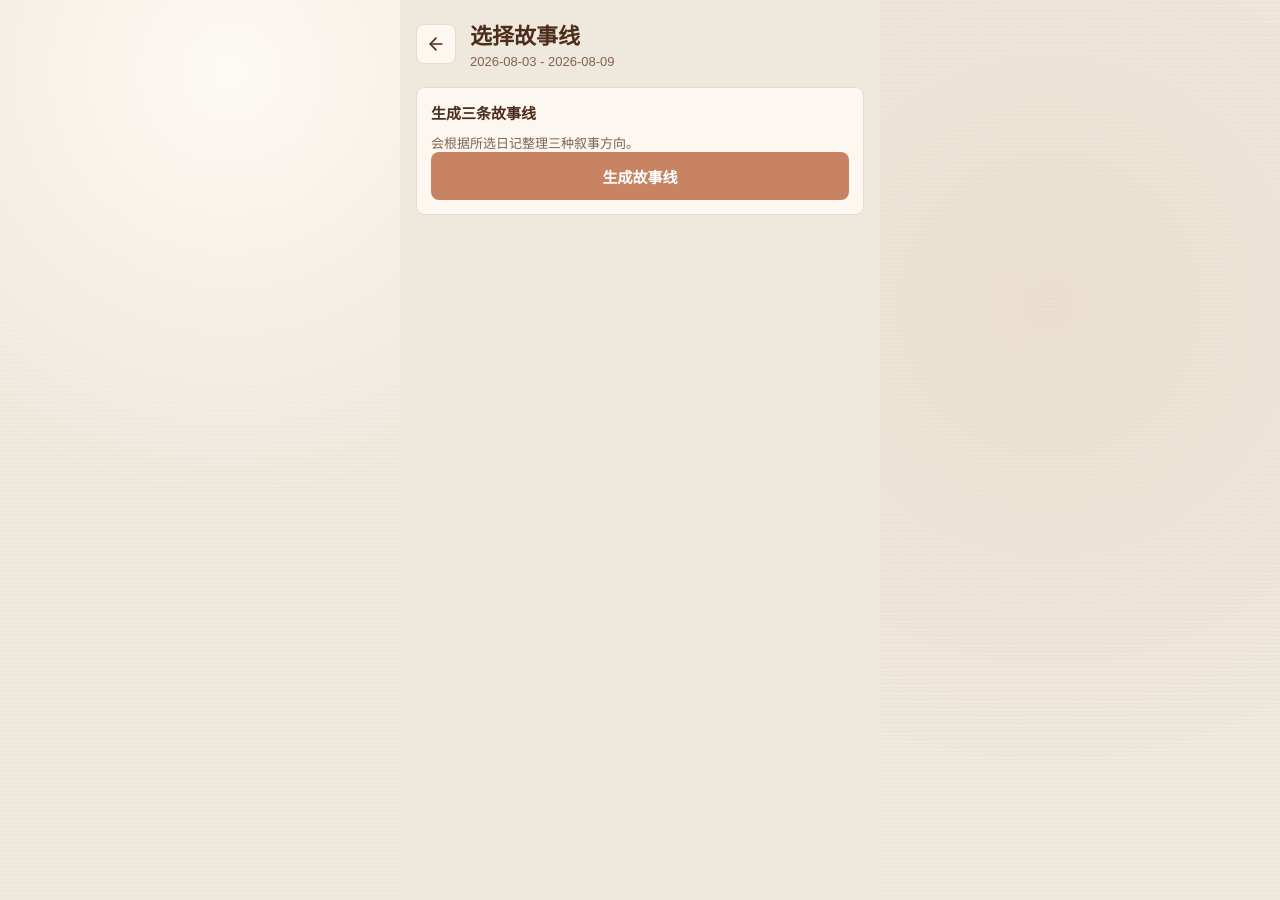
Test case: TimeStoryWizard › requires one storyline, offers four styles, then generates the picturebook directly
Later steps or results of the test are not shown.
Click the button "生成故事线". click: (640, 176)
box: [431,152,849,200]
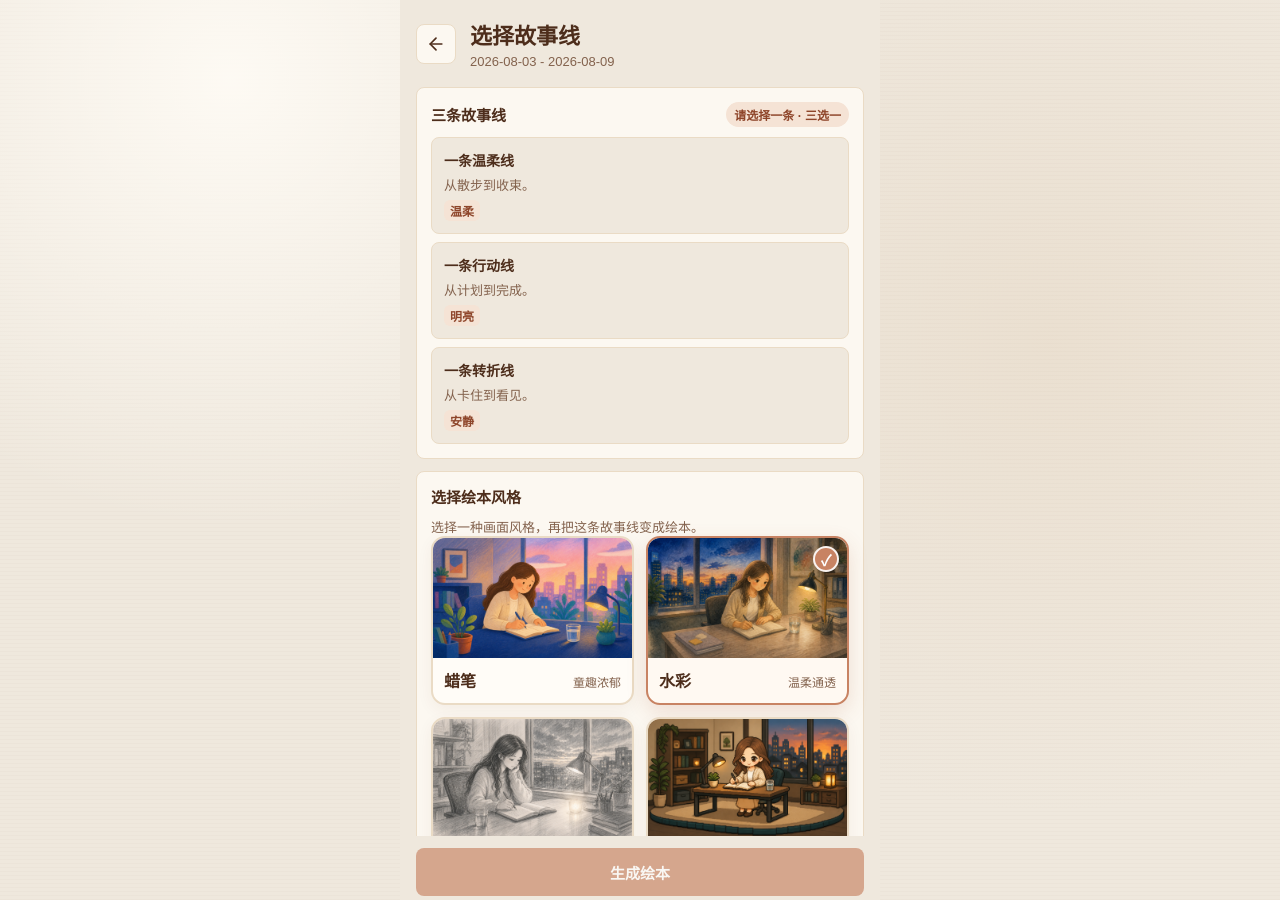
Result: the number of radio buttons is 3 at [431,137,849,234]; [431,242,849,339]; [431,347,849,444]
Result: the button "生成绘本" is disabled at [416,848,864,896]
Result: the number of buttons "蜡笔 童趣浓郁" is 4 at [431,536,634,705]; [646,536,849,705]; [431,717,634,885]; [646,717,849,885]
